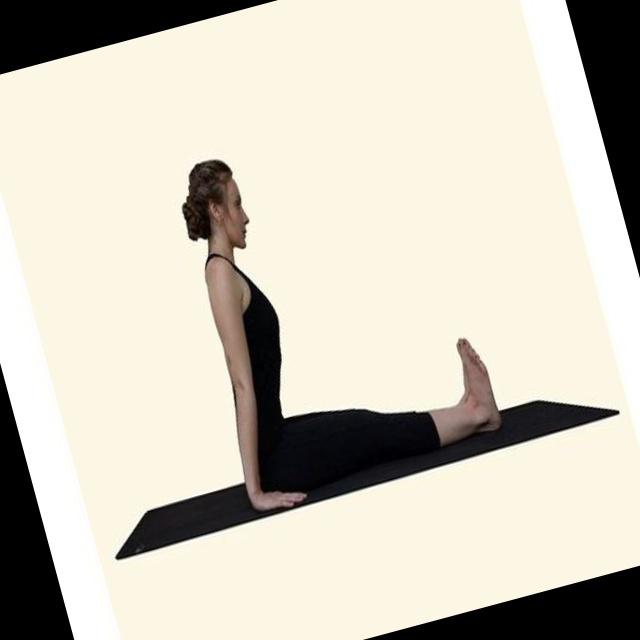Staff_Pose: (181, 160, 506, 513)
